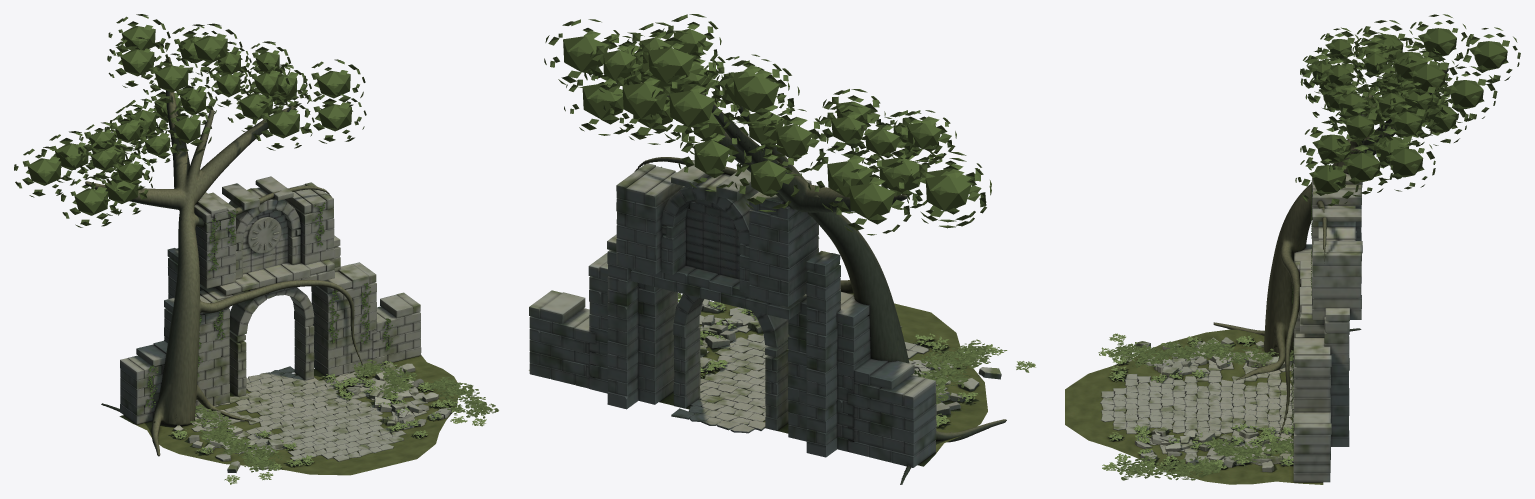
Rendered from archive-exterior.glb.
The picture shows the model from 3 angles, left to right: view 1: azimuth 30°, elevation 25°; view 2: azimuth 150°, elevation 25°; view 3: azimuth 270°, elevation 25°; orthographic projection. The views are drawn at different scales.
Visible parts, largest first — view 1: ArchiveExterior_Stone, ArchiveExterior_Foliage, ArchiveExterior_Courtyard, ArchiveExterior_Wood, PD11_Foliage_archive-exterior; view 2: ArchiveExterior_Stone, ArchiveExterior_Foliage, ArchiveExterior_Courtyard, ArchiveExterior_Wood, PD11_Foliage_archive-exterior; view 3: ArchiveExterior_Foliage, ArchiveExterior_Courtyard, ArchiveExterior_Stone, ArchiveExterior_Wood, PD11_Foliage_archive-exterior.
Part boxes in pixels (<box>): ArchiveExterior_Stone: <box>120,176,421,424</box>; ArchiveExterior_Foliage: <box>14,14,486,484</box>; ArchiveExterior_Courtyard: <box>119,355,458,475</box>; ArchiveExterior_Wood: <box>85,57,366,456</box>; PD11_Foliage_archive-exterior: <box>190,359,498,472</box>; ArchiveExterior_Stone: <box>529,160,936,467</box>; ArchiveExterior_Foliage: <box>544,14,1035,427</box>; ArchiveExterior_Courtyard: <box>529,293,1001,466</box>; ArchiveExterior_Wood: <box>634,82,1006,484</box>; PD11_Foliage_archive-exterior: <box>678,293,995,404</box>; ArchiveExterior_Foliage: <box>1098,14,1520,470</box>; ArchiveExterior_Courtyard: <box>1065,329,1323,484</box>; ArchiveExterior_Stone: <box>1293,173,1362,482</box>; ArchiveExterior_Wood: <box>1213,68,1448,440</box>; PD11_Foliage_archive-exterior: <box>1108,338,1293,480</box>.
Size of what is drawn, in the model's own units: 37.35 by 31.56 by 36.88.
Materials: 6 (3 with a texture image).
